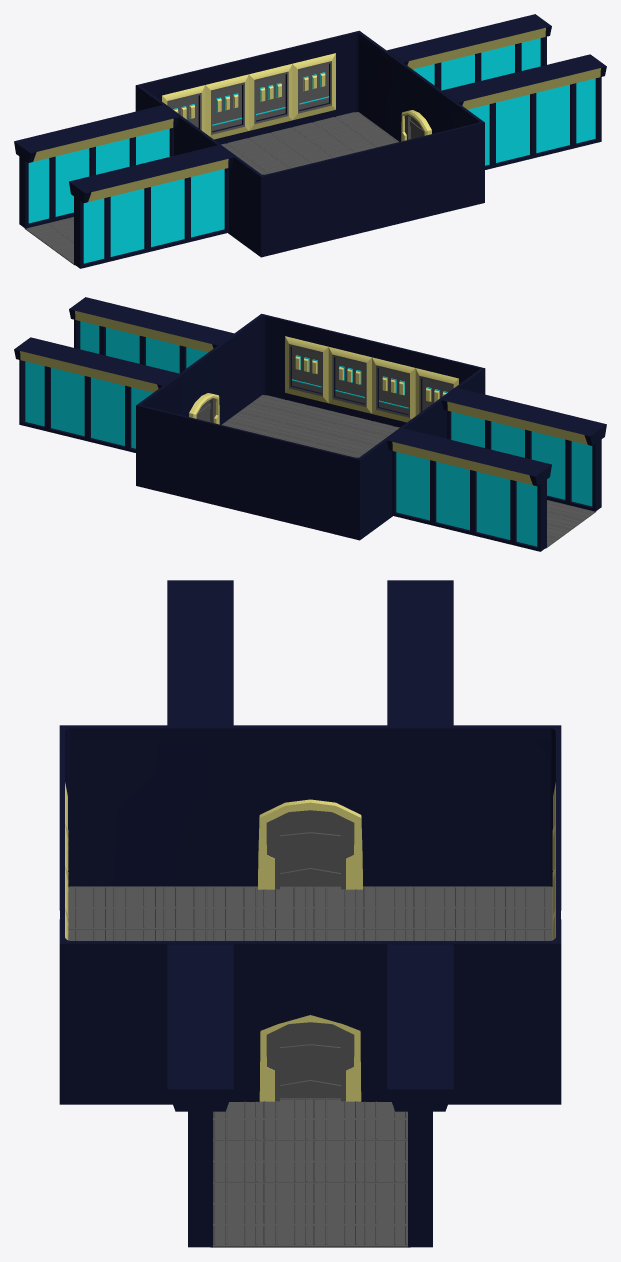
The model's file is escenario 2.0 .fbx.
3 renders of one model, top to bottom at view 1: azimuth 30°, elevation 25°; view 2: azimuth 150°, elevation 25°; view 3: azimuth 270°, elevation 25°, orthographic. The views are drawn at different scales.
Parts seen in each view (by area): view 1: pareded con placa derecha, Pared de vidrio entrada derecha, pareded con placa izquierdo, Pared de vidrio salida derecha, Pared de vidrio entrada izqquierda, pareded con puerta salida, Pared de vidrio salida izquierda, parede con puerta entrada, piso sala, piso pasillo entrada, marco.001; view 2: pareded con placa izquierdo, Pared de vidrio entrada izqquierda, pareded con placa derecha, Pared de vidrio salida izquierda, Pared de vidrio entrada derecha, pareded con puerta salida, Pared de vidrio salida derecha, parede con puerta entrada, piso sala, piso pasillo entrada, marco.001; view 3: parede con puerta entrada, pareded con puerta salida, piso pasillo salida, piso sala, Pared de vidrio salida derecha, Pared de vidrio salida izquierda, Pared de vidrio entrada derecha, Pared de vidrio entrada izqquierda, puerta, puerta.001, marco, marco.001 (+2 smaller).
Boxes of the visible parts, x1=… form: pareded con placa derecha: x1=285, y1=127, x2=459, y2=251; Pared de vidrio entrada derecha: x1=69, y1=145, x2=233, y2=268; pareded con placa izquierdo: x1=161, y1=37, x2=335, y2=144; Pared de vidrio salida derecha: x1=442, y1=54, x2=606, y2=169; Pared de vidrio entrada izqquierda: x1=14, y1=105, x2=179, y2=228; pareded con puerta salida: x1=335, y1=30, x2=484, y2=208; Pared de vidrio salida izquierda: x1=387, y1=14, x2=551, y2=90; parede con puerta entrada: x1=135, y1=79, x2=285, y2=257; piso sala: x1=221, y1=112, x2=398, y2=174; piso pasillo entrada: x1=24, y1=217, x2=74, y2=265; marco.001: x1=401, y1=110, x2=431, y2=141; pareded con placa izquierdo: x1=161, y1=410, x2=335, y2=534; Pared de vidrio entrada izqquierda: x1=387, y1=428, x2=551, y2=551; pareded con placa derecha: x1=285, y1=320, x2=459, y2=427; Pared de vidrio salida izquierda: x1=14, y1=337, x2=178, y2=452; Pared de vidrio entrada derecha: x1=441, y1=388, x2=606, y2=511; pareded con puerta salida: x1=136, y1=313, x2=285, y2=491; Pared de vidrio salida derecha: x1=69, y1=297, x2=233, y2=373; parede con puerta entrada: x1=335, y1=362, x2=485, y2=540; piso sala: x1=222, y1=395, x2=399, y2=457; piso pasillo entrada: x1=545, y1=500, x2=596, y2=548; marco.001: x1=189, y1=393, x2=219, y2=424; parede con puerta entrada: x1=59, y1=725, x2=561, y2=910; pareded con puerta salida: x1=59, y1=919, x2=561, y2=1104; piso pasillo salida: x1=210, y1=1098, x2=410, y2=1247; piso sala: x1=68, y1=886, x2=552, y2=1099; Pared de vidrio salida derecha: x1=167, y1=944, x2=233, y2=1247; Pared de vidrio salida izquierda: x1=387, y1=944, x2=453, y2=1247; Pared de vidrio entrada derecha: x1=167, y1=580, x2=233, y2=725; Pared de vidrio entrada izqquierda: x1=387, y1=580, x2=453, y2=725; puerta: x1=266, y1=810, x2=354, y2=889; puerta.001: x1=266, y1=1022, x2=354, y2=1101; marco: x1=258, y1=799, x2=362, y2=889; marco.001: x1=259, y1=1015, x2=361, y2=1101.
Size of the model in its own units: 9626 by 1421 by 4008.
